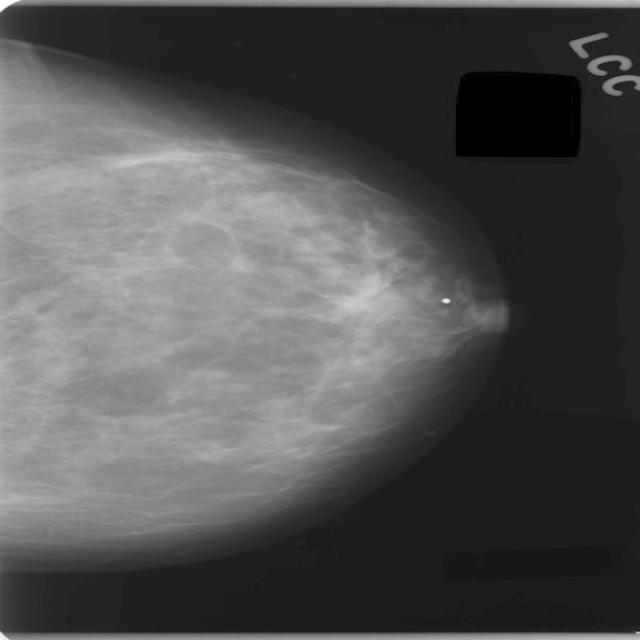tumour: (314, 272, 404, 324)
